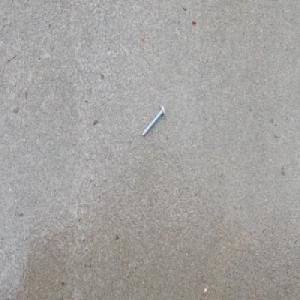Nail: (144, 108, 168, 140)
